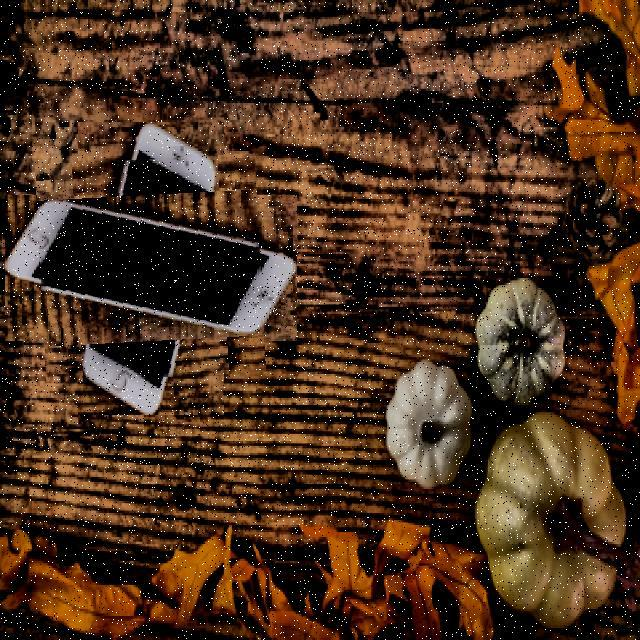Phone: (38, 156, 264, 381)
